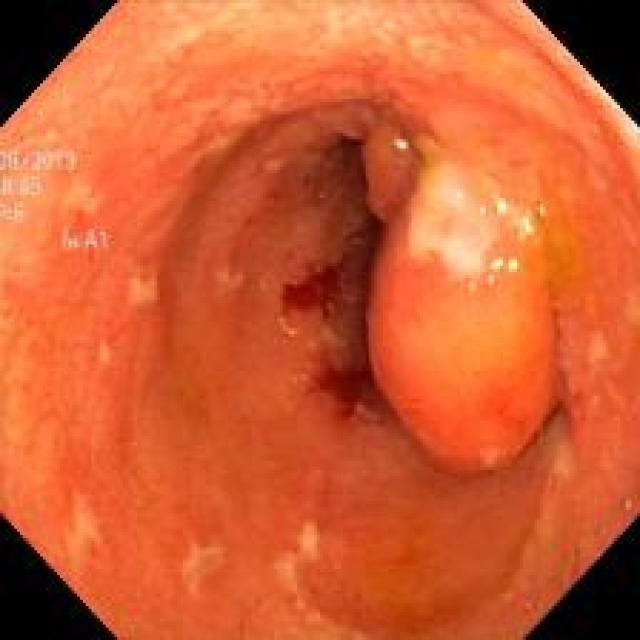Polyps: (368, 161, 559, 474), (361, 124, 420, 223)
